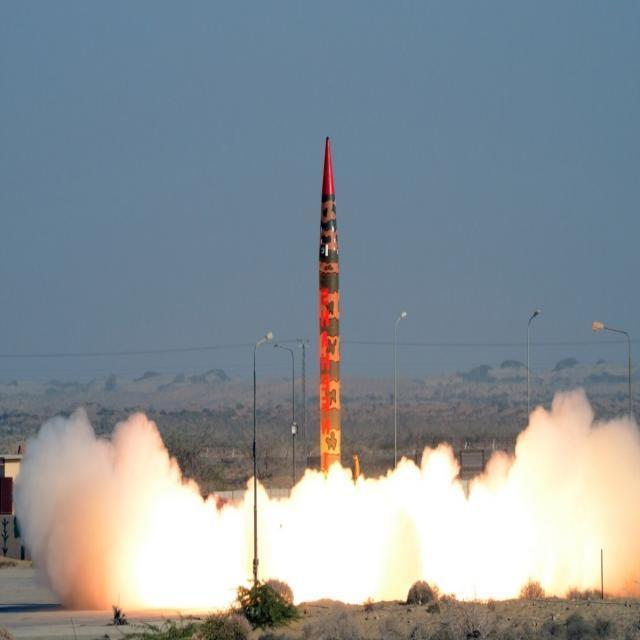Missile: (312, 123, 347, 484)
